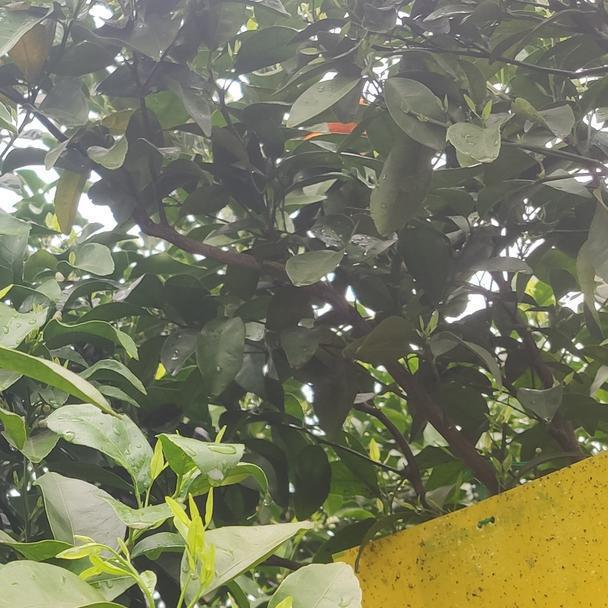shoot: (66, 530, 159, 603), (168, 500, 228, 603)
